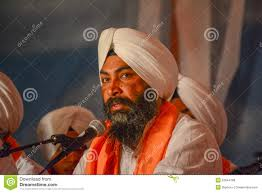helmet: (93, 27, 179, 131)
